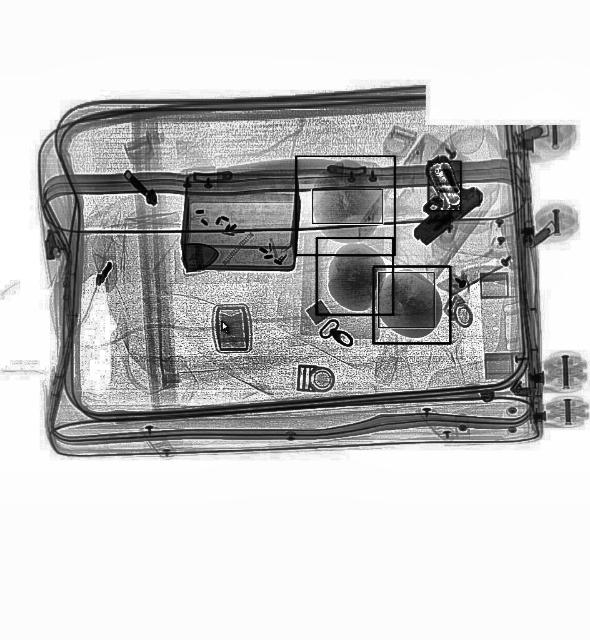Gun: (384, 149, 486, 247)
